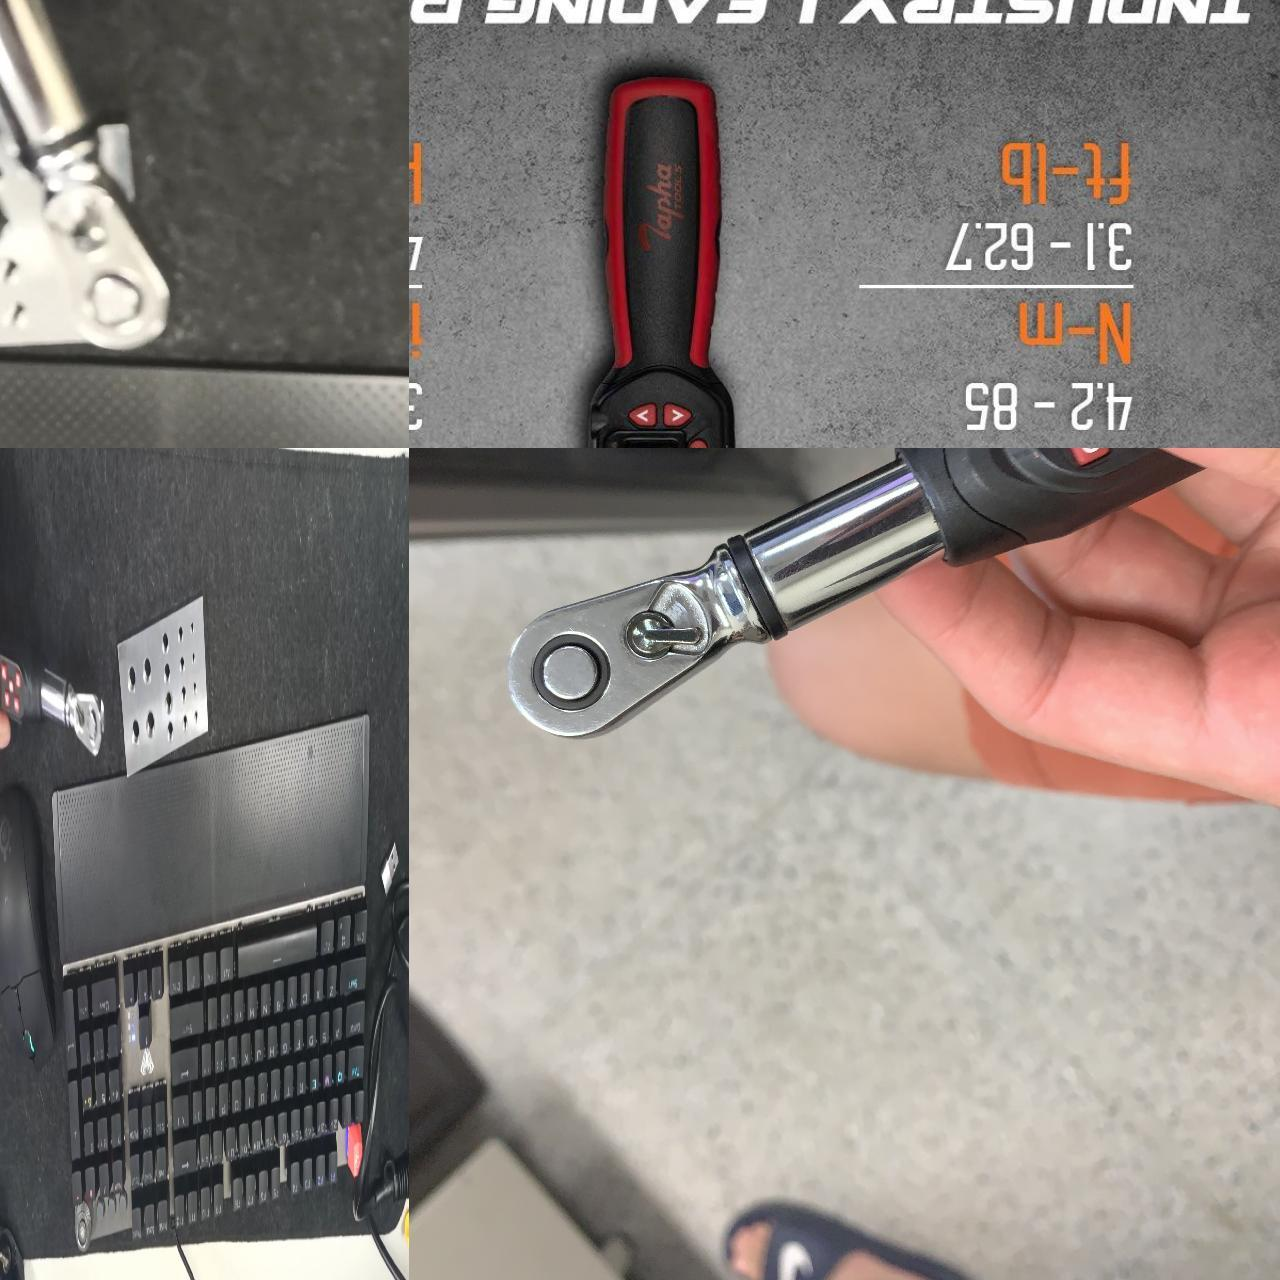Tool: (501, 544, 761, 741), (66, 679, 105, 758)
